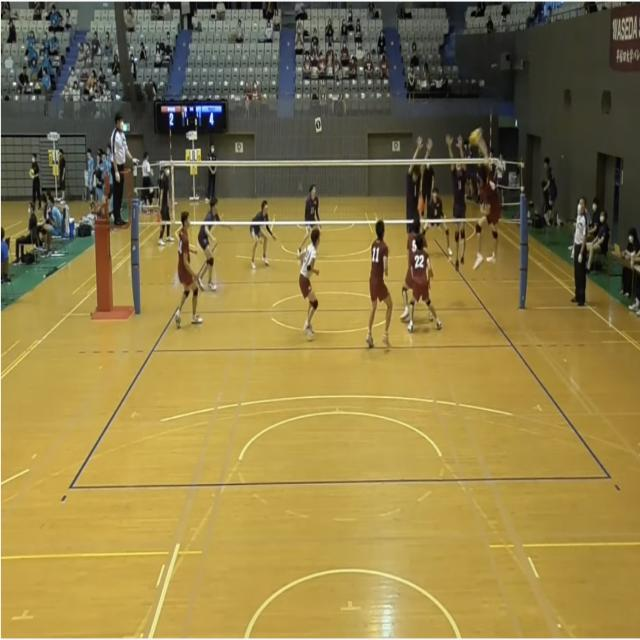spike: (464, 126, 504, 274)
